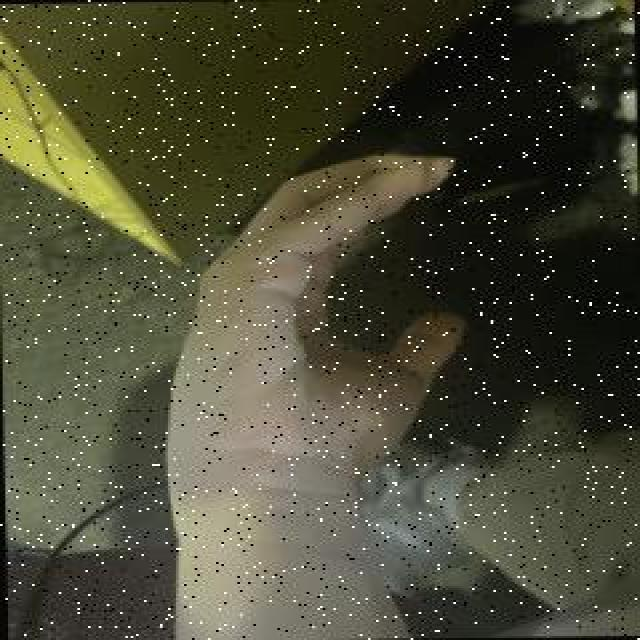C: (151, 149, 473, 505)
